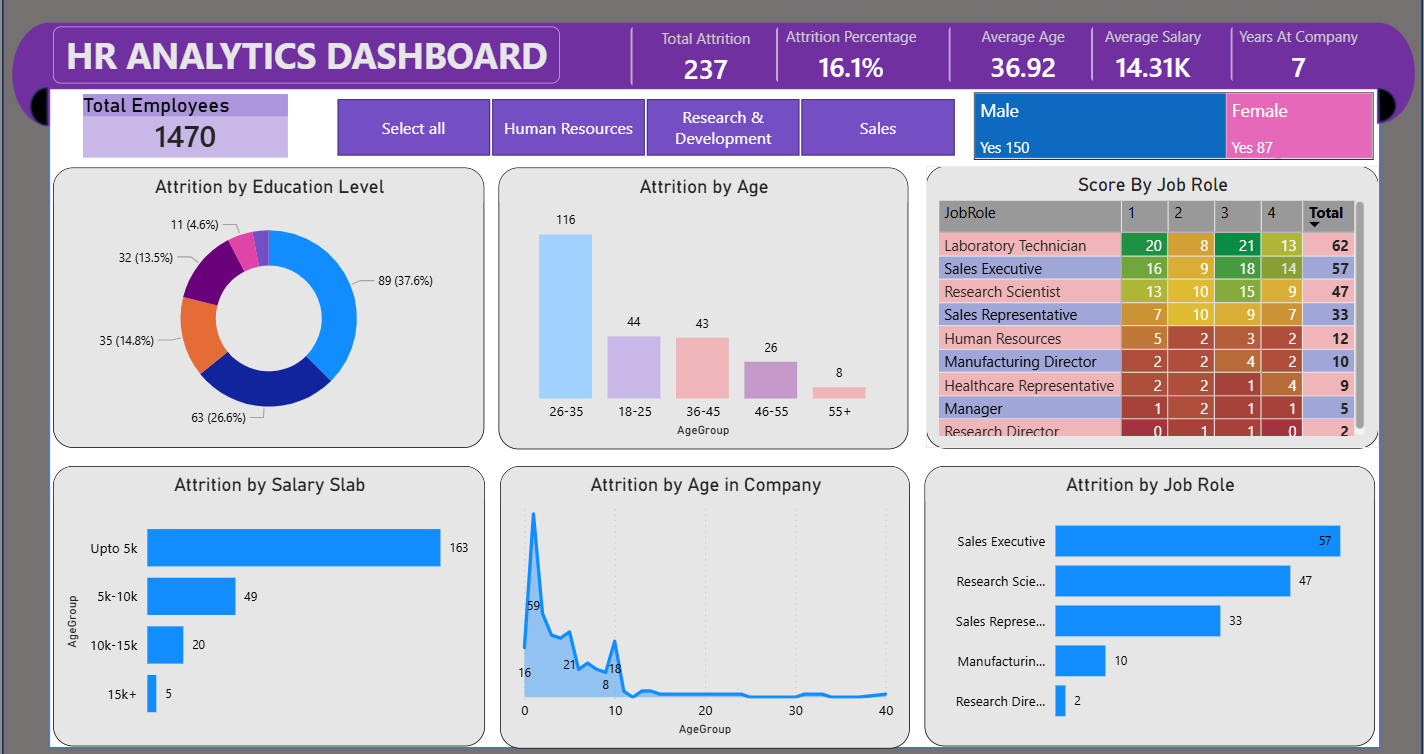

What the dashboard file says about the page in this screenshot:
{"tool":"powerbi","page":{"name":"Page 1","canvas":[1280,720],"ordinal":0},"visuals":[{"type":"cardVisual","title":"Total Employees","fields":{"Data":["Sheet1.Attrition Percentage"]},"box":[685.4,27.2,155.8,75.7],"z":0},{"type":"cardVisual","title":"Total Employees","fields":{"Data":["Avg(Sheet1.Age)"]},"box":[841.2,27.2,154.3,75.7],"z":1000},{"type":"cardVisual","title":"Total Employees","fields":{"Data":["Avg(Sheet1.MonthlyRate)"]},"box":[969.8,27.2,131.6,74.1],"z":2000},{"type":"cardVisual","title":"Total Employees","fields":{"Data":["Avg(Sheet1.YearsAtCompany)"]},"box":[1095.4,27.2,142.2,74.1],"z":3000},{"type":"donutChart","title":"Attrition by Education Level","fields":{"Y":["Sum(Sheet1.Attrition Numbers)"],"Category":["Sheet1.EducationField"]},"box":[45.4,166.4,388.8,252.7],"z":4000},{"type":"columnChart","title":"Attrition by Age","fields":{"Category":["Sheet1.AgeGroup"],"Y":["Sum(Sheet1.Attrition Numbers)"]},"box":[447.8,166.4,369.2,254.2],"z":5000},{"type":"pivotTable","title":"Score By Job Role","fields":{"Values":["Sum(Sheet1.Attrition Numbers)"],"Rows":["Sheet1.JobRole"],"Columns":["Sheet1.JobSatisfaction"]},"box":[832.6,164.2,407.8,254.9],"z":6000},{"type":"barChart","title":"Attrition by Salary Slab","fields":{"Category":["Sheet1.SalarySlab"],"Y":["Sum(Sheet1.Attrition Numbers)"]},"box":[45.4,434.6,389.2,252.9],"z":7000},{"type":"clusteredBarChart","title":"Attrition by Job Role","fields":{"Y":["Sum(Sheet1.Attrition Numbers)"],"Category":["Sheet1.JobRole"]},"box":[831.3,434.6,405.8,252.9],"z":8000},{"type":"stackedAreaChart","title":"Attrition by Age in Company","fields":{"Category":["Sheet1.YearsAtCompany"],"Y":["Sum(Sheet1.Attrition Numbers)"]},"box":[448.2,434.6,369.5,254.4],"z":9000},{"type":"textbox","box":[45.4,39.3,456.9,51.4],"z":10000},{"type":"slicer","fields":{"Values":["Sheet1.Department"]},"box":[281.4,102.9,596.1,54.5],"z":11000},{"type":"treemap","fields":{"Values":["Sum(Sheet1.Attrition Numbers)"],"Group":["Sheet1.Gender"],"Details":["Sheet1.Attrition"]},"box":[876,98.3,360.1,60.5],"z":12000},{"type":"card","title":"Total Employees","fields":{"Values":["Sheet1.Total Employees"]},"box":[72.6,99.9,184.6,57.5],"z":13000},{"type":"cardVisual","title":"Total Employees","fields":{"Data":["Sum(Sheet1.Attrition Numbers)"]},"box":[553.8,27.2,155.8,78.7],"z":14000}]}

Visuals, with their boxes in screenshot pixels (x1, y1, x2, y2):
"Total Employees" cardVisual: select_region(760, 0, 932, 84)
"Total Employees" cardVisual: select_region(932, 0, 1103, 84)
"Total Employees" cardVisual: select_region(1075, 0, 1221, 83)
"Total Employees" cardVisual: select_region(1214, 0, 1372, 83)
"Attrition by Education Level" donutChart: select_region(50, 155, 481, 435)
"Attrition by Age" columnChart: select_region(496, 155, 905, 436)
"Score By Job Role" pivotTable: select_region(923, 152, 1375, 435)
"Attrition by Salary Slab" barChart: select_region(50, 452, 482, 732)
"Attrition by Job Role" clusteredBarChart: select_region(921, 452, 1371, 732)
"Attrition by Age in Company" stackedAreaChart: select_region(497, 452, 906, 734)
textbox: select_region(50, 14, 557, 71)
slicer - Sheet1.Department: select_region(312, 84, 973, 145)
treemap - Sum(Sheet1.Attrition Numbers) x Sheet1.Gender: select_region(971, 79, 1370, 146)
"Total Employees" card: select_region(80, 81, 285, 145)
"Total Employees" cardVisual: select_region(614, 0, 786, 88)
